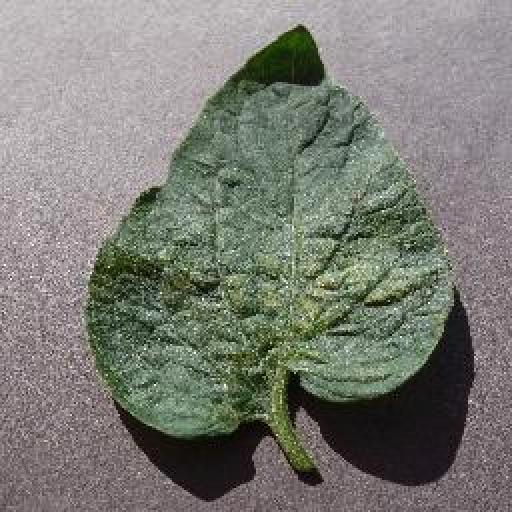disease_tomato: (83, 21, 456, 439)
